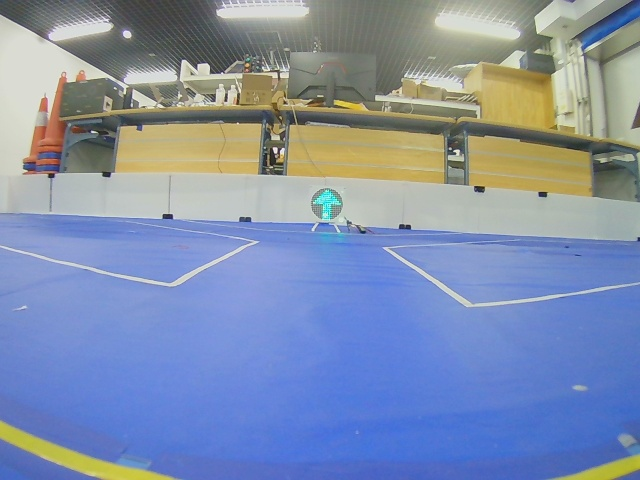straight_green: (311, 188, 343, 221)
